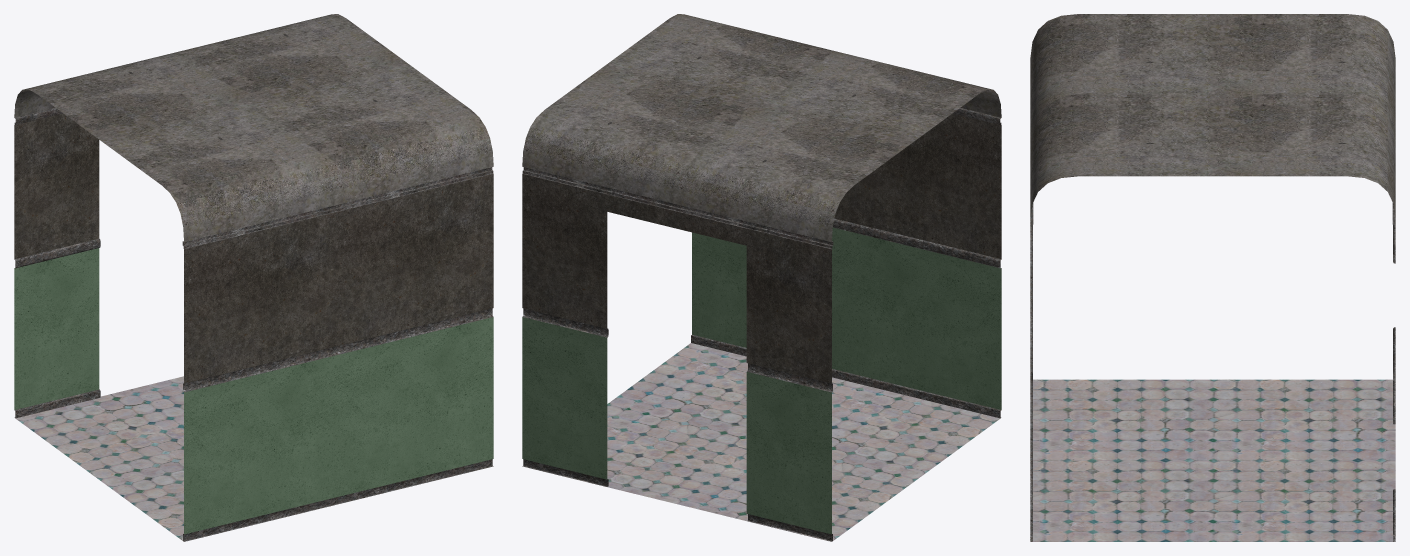
The model's file is CorridorBlockStraight_WithDoorway.FBX.
3 views of the same model, side by side, from view 1: azimuth 30°, elevation 25°; view 2: azimuth 150°, elevation 25°; view 3: azimuth 270°, elevation 25° (orthographic). The views are drawn at different scales.
Parts seen in each view (by area): view 1: Straight_WithDoorway; view 2: Straight_WithDoorway; view 3: Straight_WithDoorway.
Part boxes in pixels (<box>): Straight_WithDoorway: <box>14,14,493,541</box>; Straight_WithDoorway: <box>522,14,1001,541</box>; Straight_WithDoorway: <box>1030,14,1395,541</box>.
Bounding box in the file's own units: 78.74 × 82.67 × 74.8.
